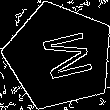M_W: (29, 28, 90, 85)
